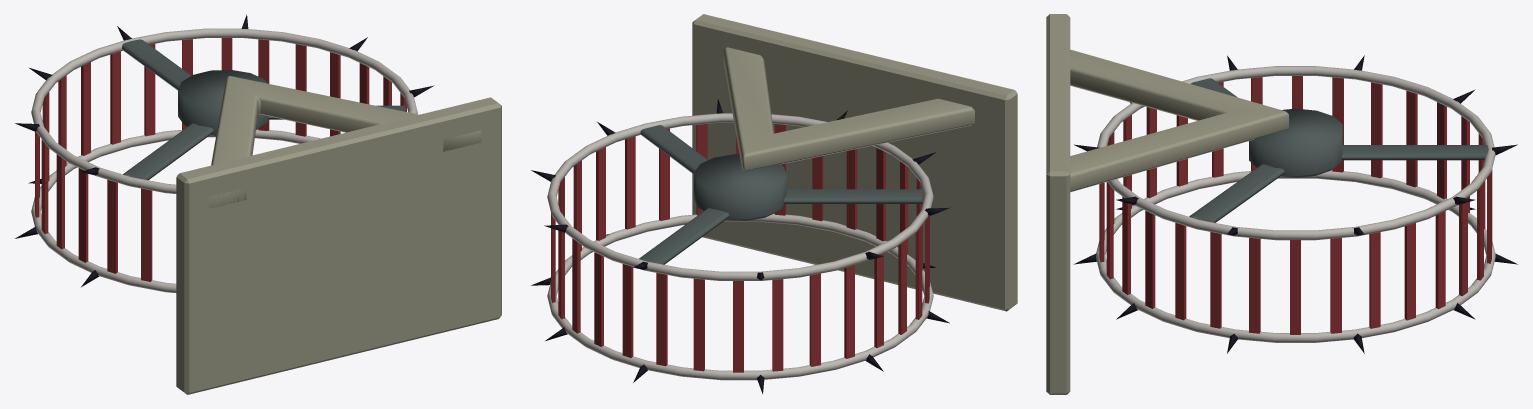
File: Wheel_2.fbx
3 renders of one model, left to right at view 1: azimuth 30°, elevation 25°; view 2: azimuth 150°, elevation 25°; view 3: azimuth 270°, elevation 25°, orthographic. The views are drawn at different scales.
Parts seen in each view (by area): view 1: Plane, Wheel_Mesh, Balka, Center; view 2: Plane, Wheel_Mesh, Balka, Center; view 3: Wheel_Mesh, Balka, Plane, Center.
Part boxes in pixels (box(x1,y1,x2,y2)): Plane: box(176, 97, 501, 394); Wheel_Mesh: box(15, 14, 434, 292); Balka: box(208, 76, 481, 208); Center: box(122, 39, 405, 180); Plane: box(692, 14, 1017, 311); Wheel_Mesh: box(531, 99, 950, 394); Balka: box(723, 47, 974, 170); Center: box(639, 125, 922, 264); Wheel_Mesh: box(1073, 55, 1517, 353); Balka: box(1070, 49, 1288, 192); Plane: box(1046, 14, 1070, 394); Center: box(1189, 78, 1488, 222).
Bounding box in the file's own units: 1.73 × 1 × 1.92.
